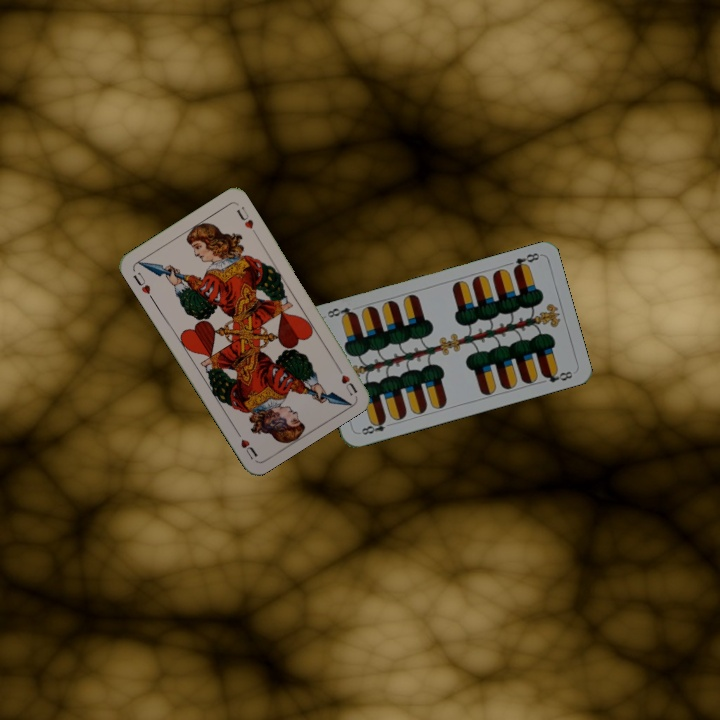E8: (509, 249, 542, 273), (355, 415, 389, 437)
HU: (332, 361, 360, 398), (129, 268, 156, 302)
